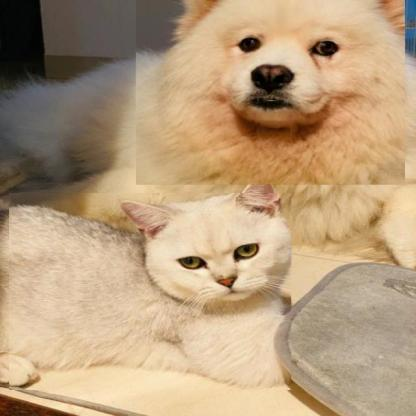cat: (9, 193, 291, 390)
dog: (136, 0, 405, 185)
